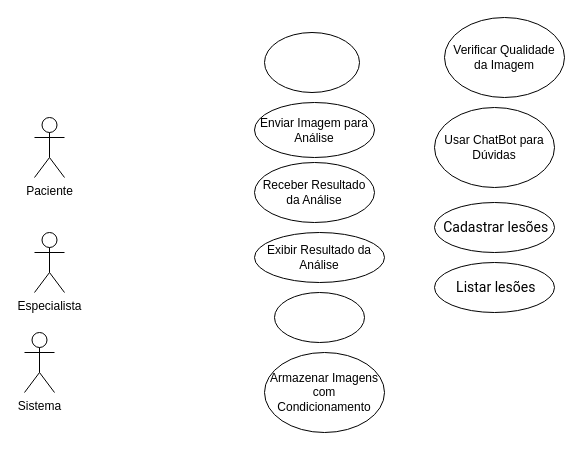
Some shapes in this 582 by 450 pixel diagram are drawn without their labels. The centre of each missing label's shape, as x and y in pixels:
"Capturar Imagem da Lesão" goes at [319,317].
"Tratar Imagem" goes at [312,62].
